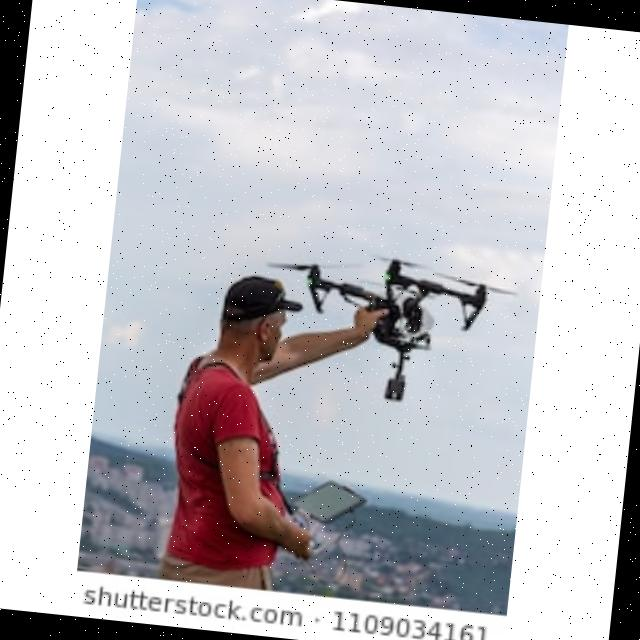Drones: (296, 235, 499, 351)
